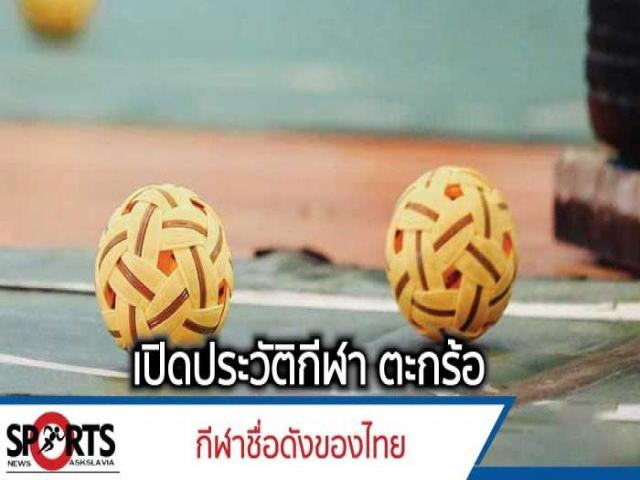round ball: (385, 166, 518, 341), (95, 184, 234, 349)
